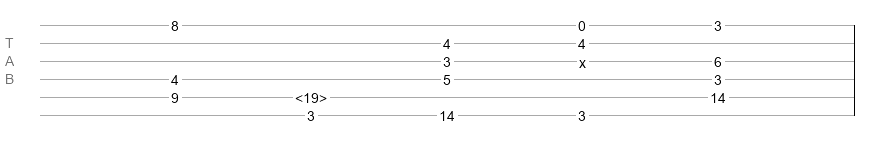0: (578, 18, 586, 28)
14: (439, 108, 455, 118), (710, 90, 726, 100)
3: (307, 108, 315, 118), (443, 54, 451, 64), (578, 108, 586, 118), (714, 72, 722, 82), (714, 18, 722, 28)
4: (171, 72, 179, 82), (443, 36, 451, 46), (578, 36, 586, 46)
5: (443, 72, 451, 82)
6: (714, 54, 722, 64)
8: (171, 18, 179, 28)
9: (171, 90, 179, 100)
harmonic: (295, 90, 327, 100)
x: (579, 55, 586, 63)
